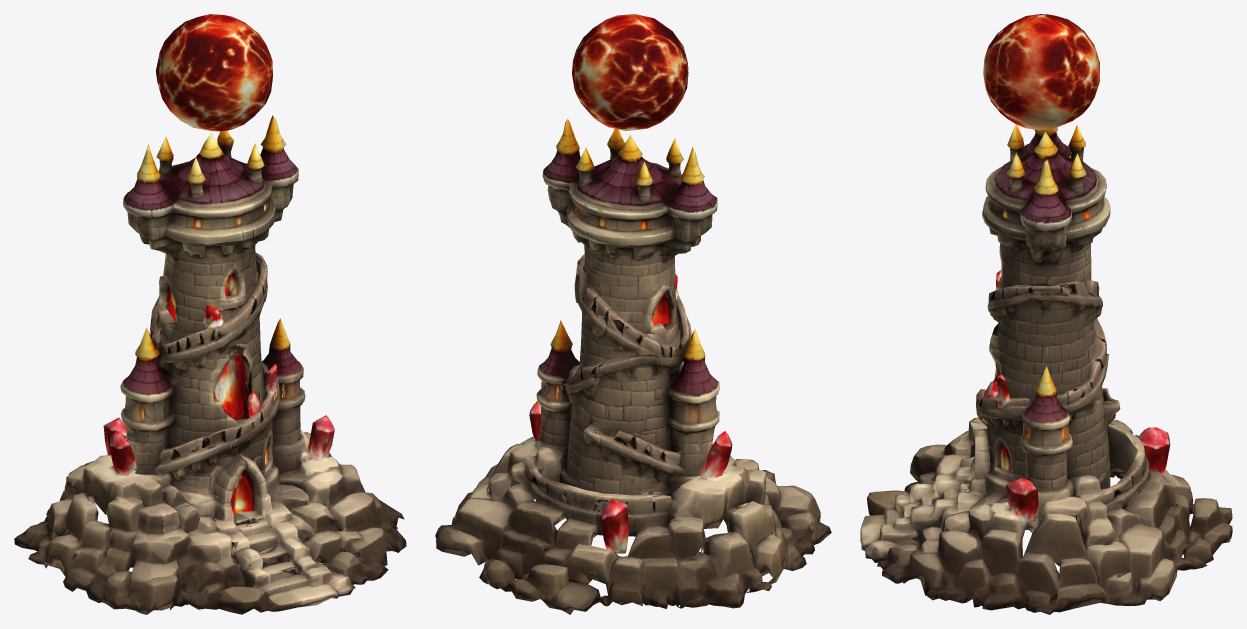
The model's file is magic_tower.glb.
3 renders of one model, left to right at view 1: azimuth 30°, elevation 25°; view 2: azimuth 150°, elevation 25°; view 3: azimuth 270°, elevation 25°, orthographic.
Parts seen in each view (by area): view 1: tower_bottom, tower_top; view 2: tower_bottom, tower_top; view 3: tower_bottom, tower_top.
Part boxes in pixels (left/top/right/bottom): tower_bottom: left=14, top=115, right=406, bottom=614; tower_top: left=156, top=14, right=272, bottom=131; tower_bottom: left=435, top=119, right=831, bottom=614; tower_top: left=572, top=14, right=688, bottom=130; tower_bottom: left=860, top=124, right=1232, bottom=614; tower_top: left=983, top=14, right=1099, bottom=130.
Bounding box in the file's own units: 0.5924 × 0.9012 × 0.5879.
Materials: 1 (1 with a texture image).
